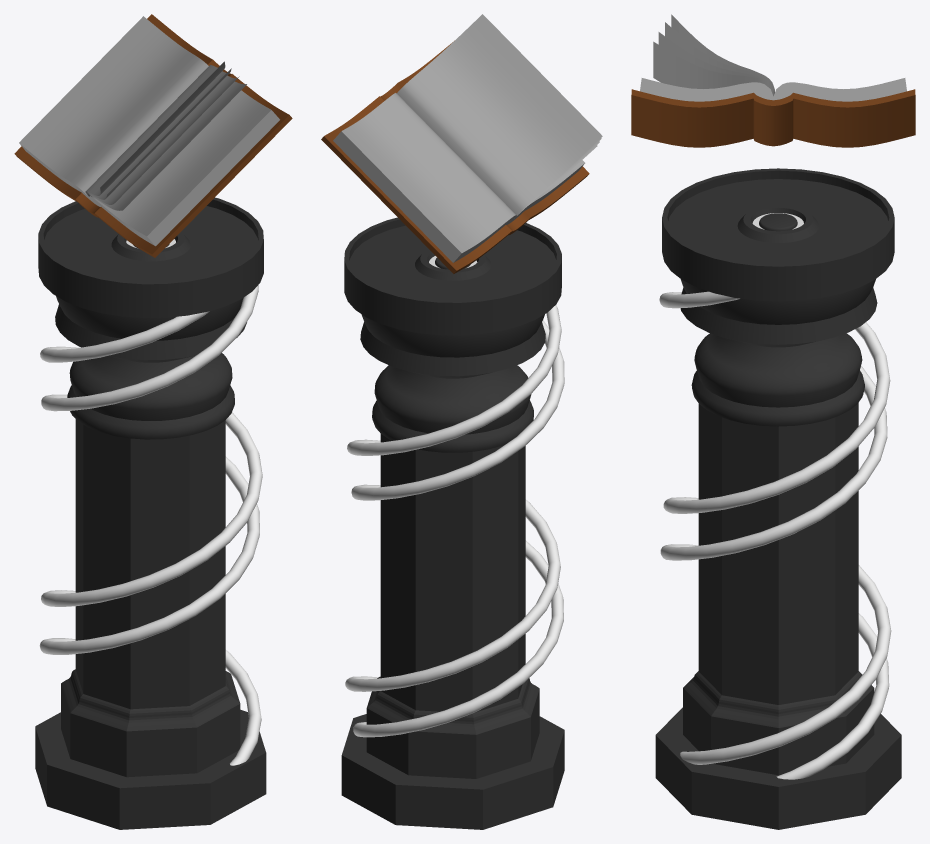
Rendered from pied_estal_v2.fbx.
3 views of the same model, side by side, from view 1: azimuth 30°, elevation 25°; view 2: azimuth 150°, elevation 25°; view 3: azimuth 270°, elevation 25° (orthographic). The views are drawn at different scales.
Parts seen in each view (by area): view 1: Cylinder.014, Cylinder.012, Plane.004, Cylinder.011, Spiral.001, Spiral.002, Plane.003, Plane.008, Plane.005, Plane.006, Plane.007; view 2: Cylinder.014, Cylinder.012, Plane.008, Plane.004, Cylinder.011, Spiral.001, Spiral.002, Plane.003; view 3: Cylinder.014, Cylinder.012, Cylinder.011, Plane.003, Spiral.001, Spiral.002, Plane.004, Plane.005, Plane.007, Plane.006, Plane.008.
Boxes of the visible parts, x1,y1,x2,y2 form: Cylinder.014: (61,419,240,777); Cylinder.012: (38,197,263,439); Plane.004: (19,16,279,246); Cylinder.011: (35,709,266,829); Spiral.001: (40,311,262,765); Spiral.002: (39,285,259,654); Plane.003: (14,14,292,257); Plane.008: (85,61,225,196); Plane.005: (88,81,246,210); Plane.006: (87,75,239,204); Plane.007: (86,68,231,199); Cylinder.014: (366,434,539,778); Cylinder.012: (344,217,561,452); Plane.008: (397,14,602,216); Plane.004: (333,93,584,262); Cylinder.011: (341,714,564,829); Spiral.001: (345,305,561,691); Spiral.002: (351,320,564,737); Plane.003: (321,40,589,273); Cylinder.014: (683,403,874,775); Cylinder.012: (662,168,894,426); Cylinder.011: (655,707,901,829); Plane.003: (631,89,915,147); Spiral.001: (663,322,891,764); Spiral.002: (659,291,889,779); Plane.004: (640,78,906,101); Plane.005: (653,41,773,95); Plane.007: (665,22,774,95); Plane.006: (658,32,773,96); Plane.008: (671,14,774,93).
Size of the model in its own units: 51.62 by 179 by 59.56.
